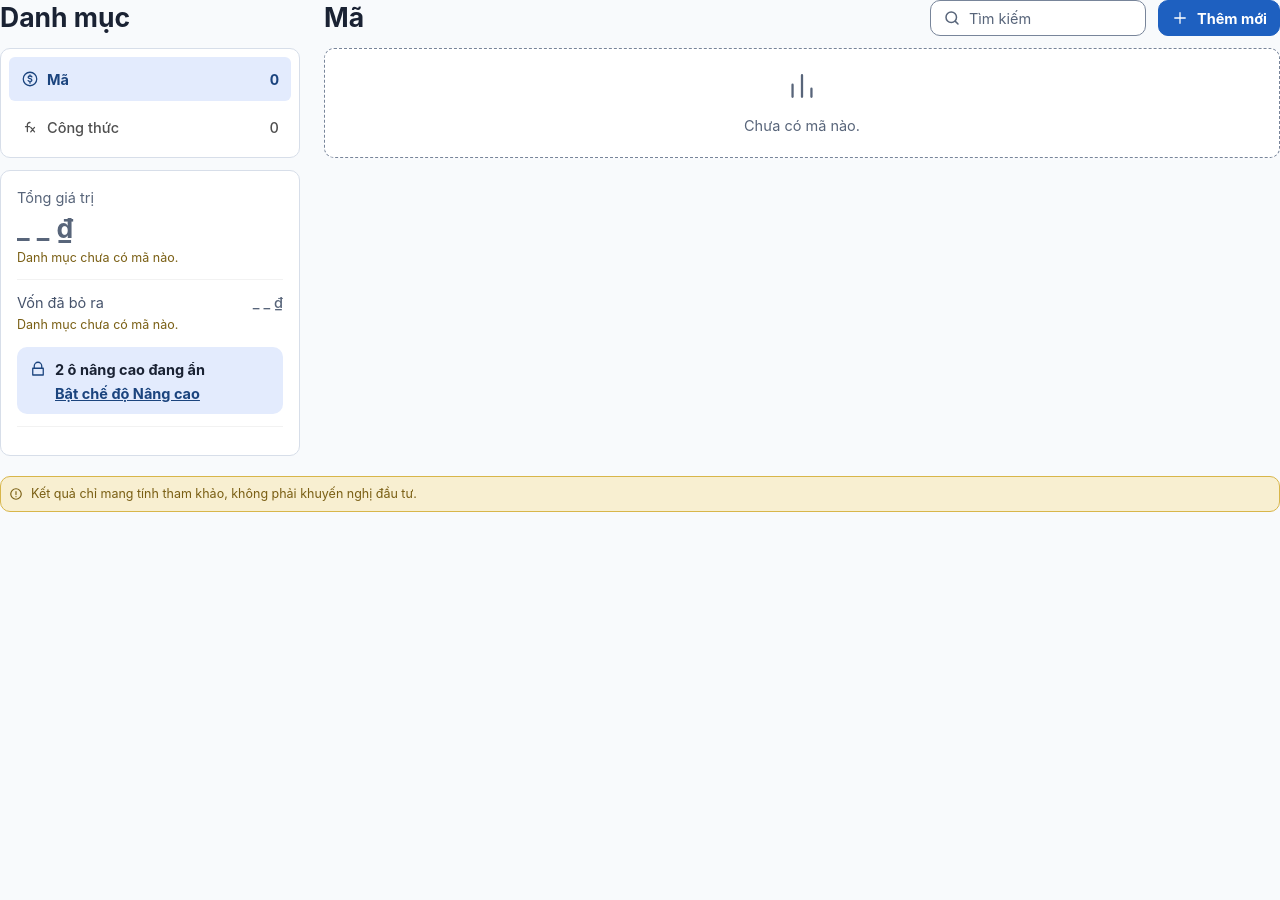
Test case: WF-06 — từ mã sang công thức › chưa chọn mã: ô công thức tự nói cần mã, và bấm vào thì mở sheet chọn mã
Click the button "Thêm mới" at (1219, 18), box x1=1158 y1=0 x2=1279 y2=36
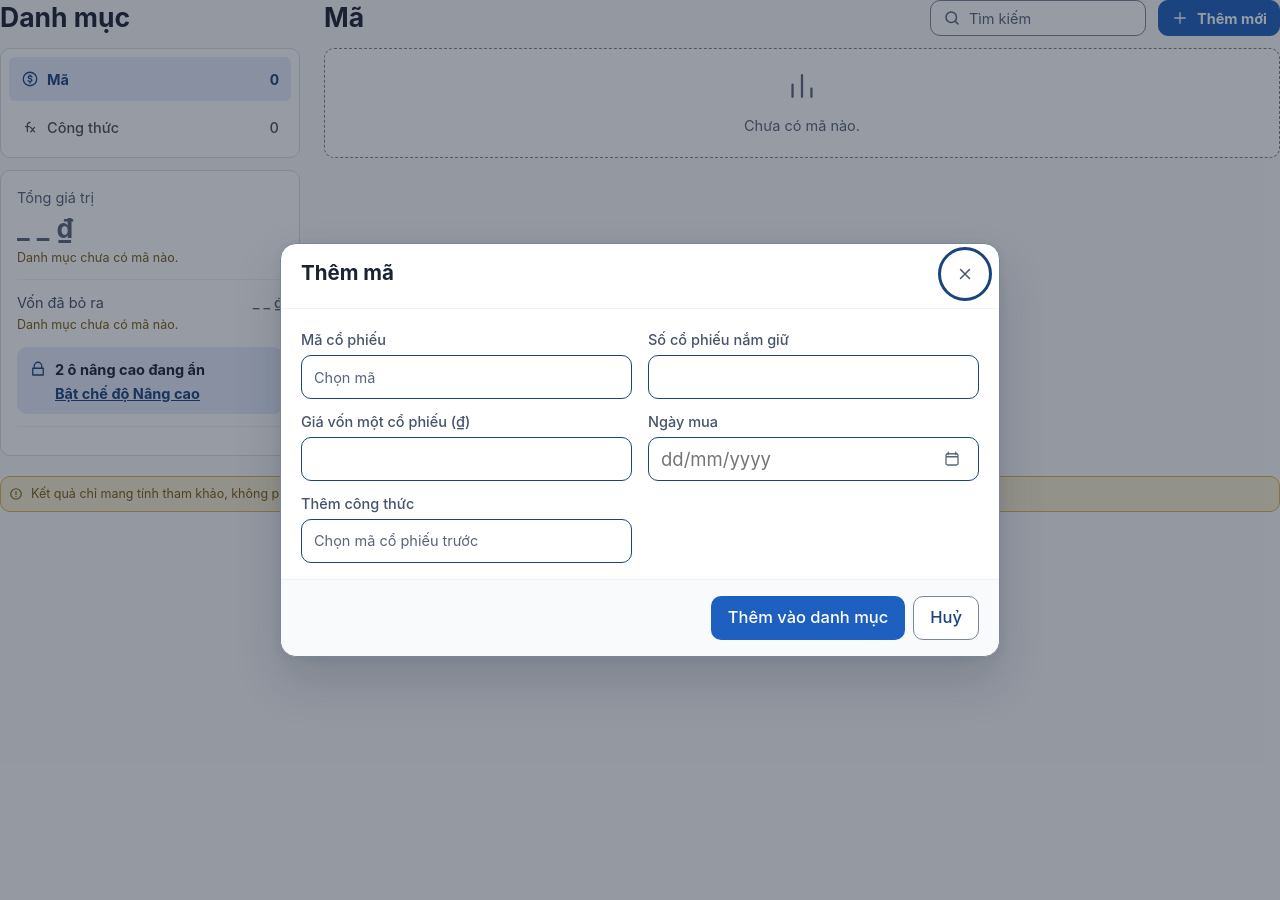
Expected: the button named "Thêm công thức" is enabled
Expected: the button named "Thêm công thức" reads "Chọn mã cổ phiếu trước"
Click the button named "Thêm công thức" at (466, 541), box x1=301 y1=519 x2=632 y2=563
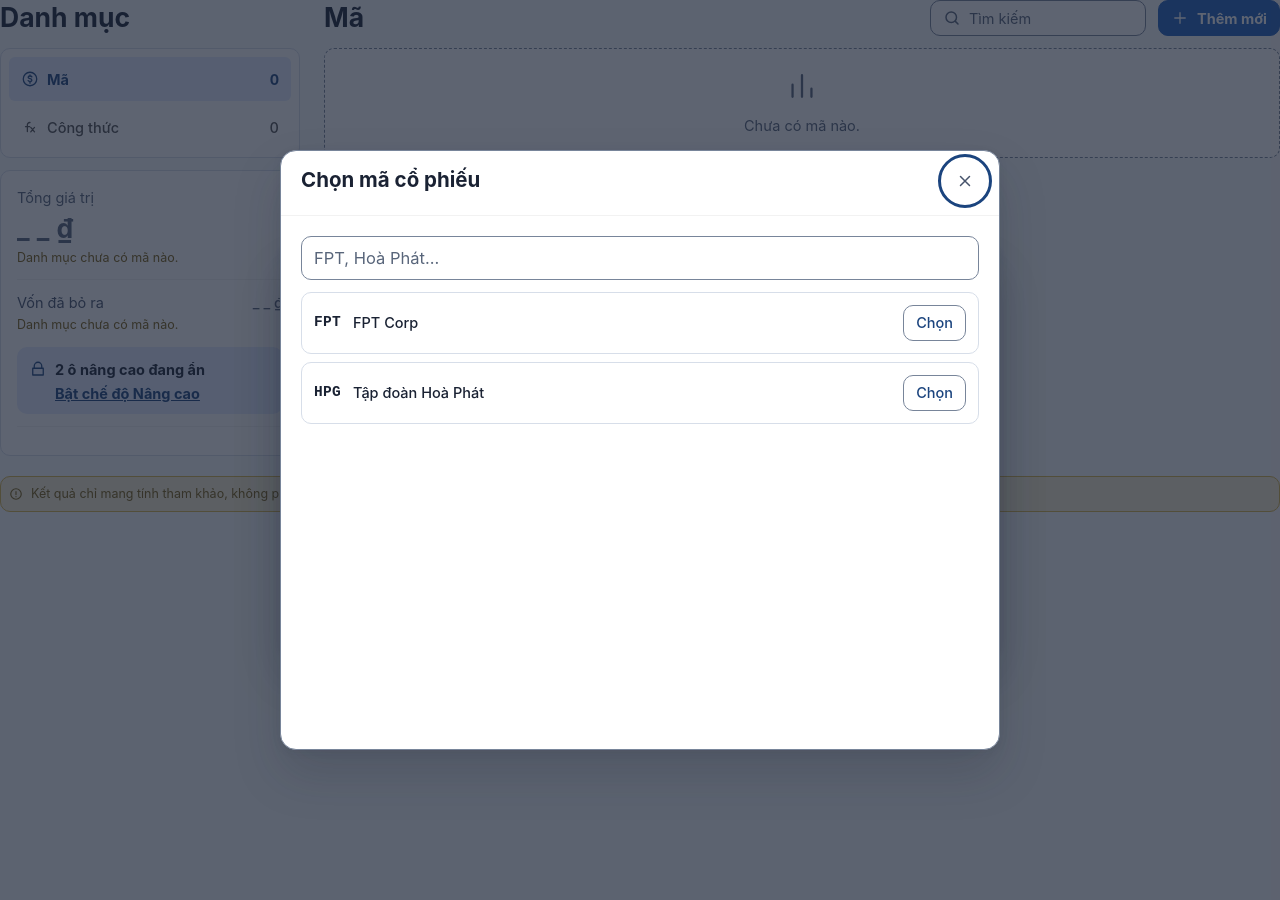
Expected: the heading "Chọn mã cổ phiếu" is shown, x1=301 y1=167 x2=480 y2=192
